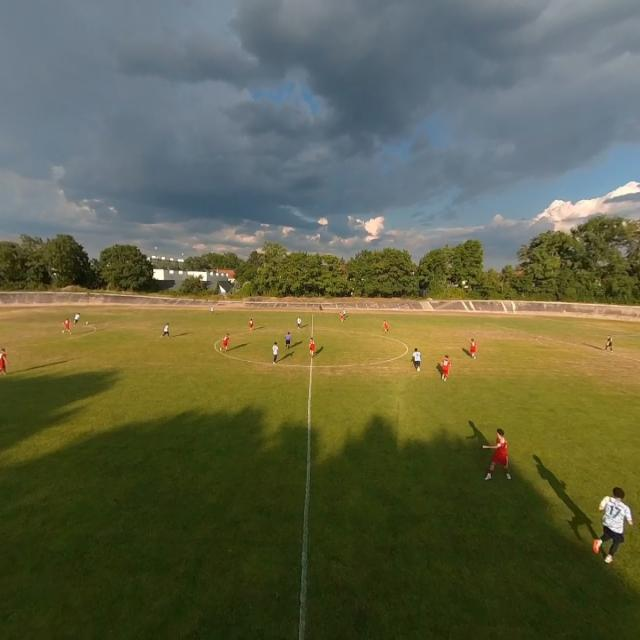ball: (86, 320, 89, 326)
